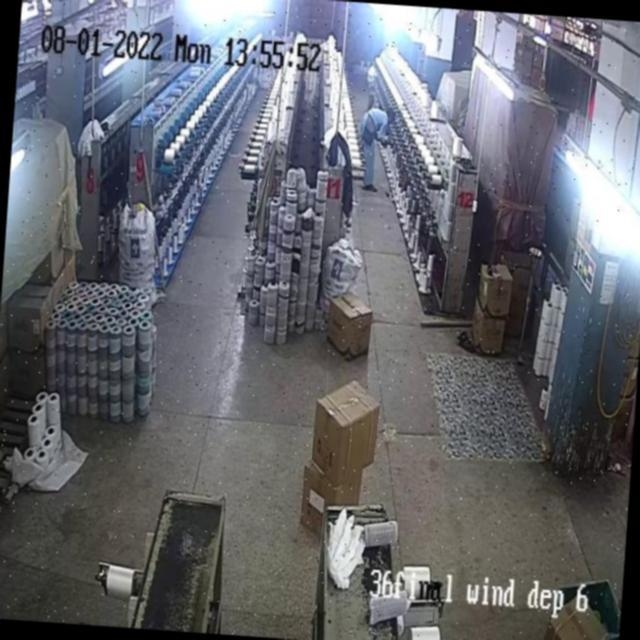person: (358, 100, 394, 183)
